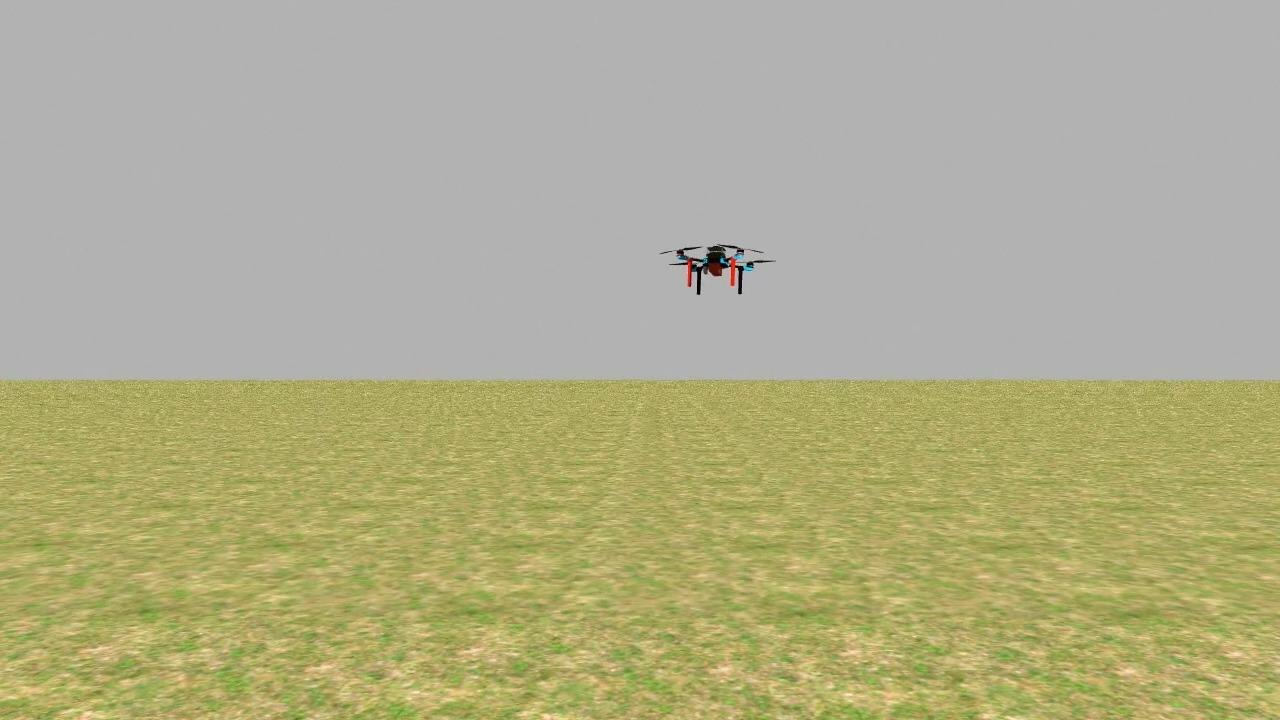UAV: (661, 221, 769, 296)
